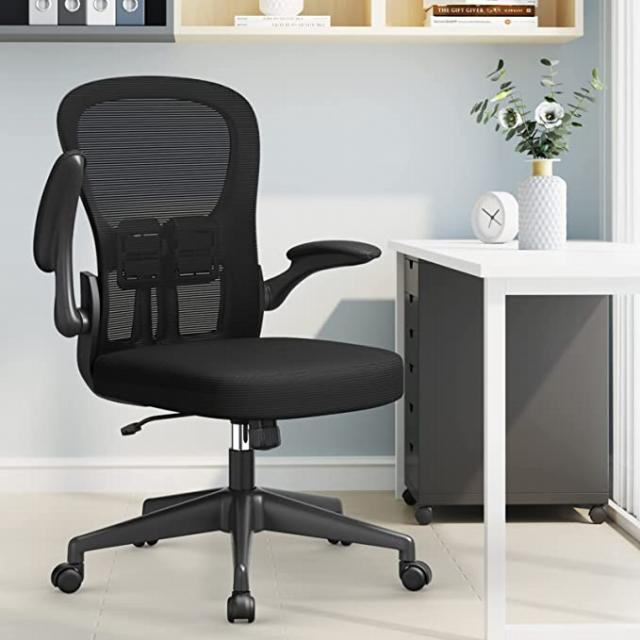chair: (33, 70, 437, 624)
